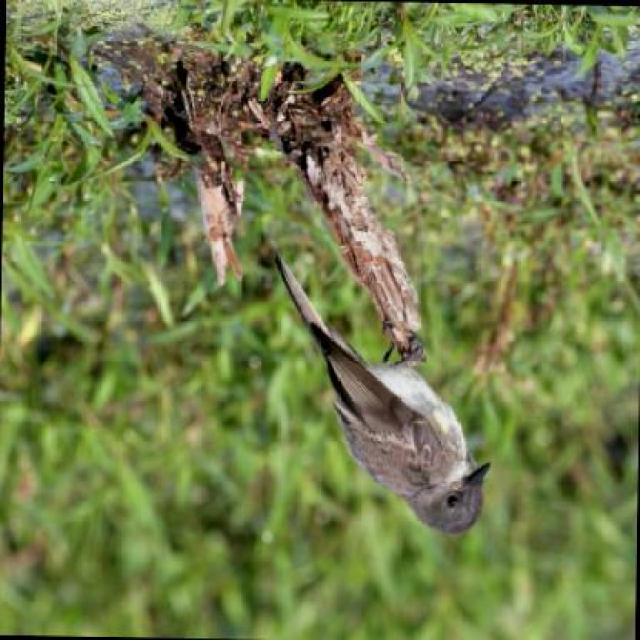Bird: (271, 247, 496, 538)
